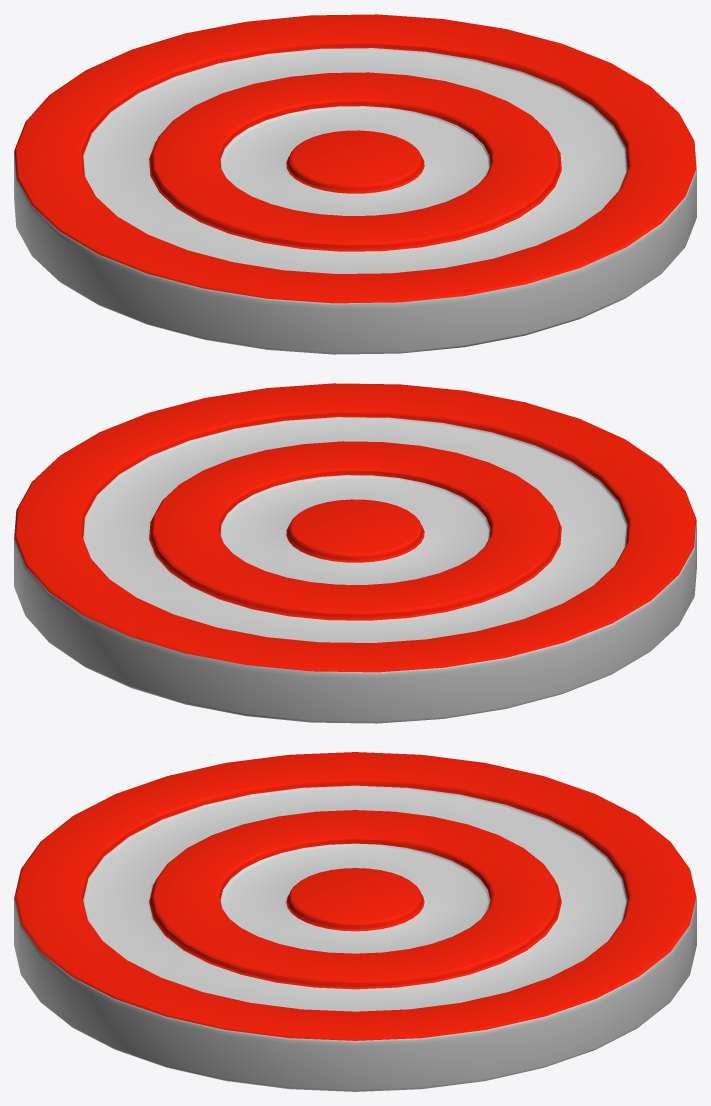
Rendered from target.fbx.
The picture shows the model from 3 angles, top to bottom: view 1: azimuth 30°, elevation 25°; view 2: azimuth 150°, elevation 25°; view 3: azimuth 270°, elevation 25°; orthographic projection.
Parts seen in each view (by area): view 1: Target; view 2: Target; view 3: Target.
Part boxes in pixels (<box>): Target: <box>14,14,696,354</box>; Target: <box>14,383,696,723</box>; Target: <box>14,752,696,1091</box>.
Bounding box in the file's own units: 40 × 3.5 × 40.
